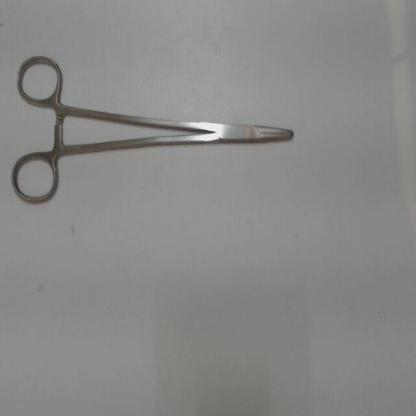8 Mayo Needle Holder: (6, 46, 312, 217)
